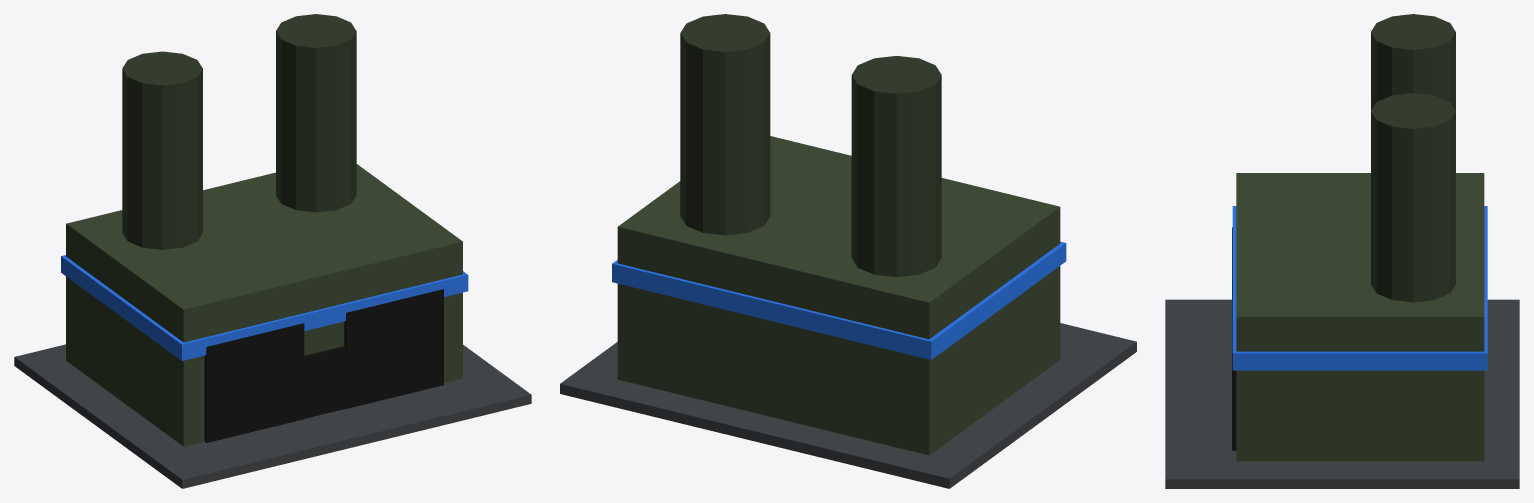
Rendered from ru_logistics_hub.glb.
3 renders of one model, left to right at view 1: azimuth 30°, elevation 25°; view 2: azimuth 150°, elevation 25°; view 3: azimuth 270°, elevation 25°, orthographic. The views are drawn at different scales.
Parts seen in each view (by area): view 1: main, base, stack_0, stack_1, garage_0, garage_1, team_band, door; view 2: main, base, stack_1, stack_0, team_band; view 3: main, base, stack_1, stack_0, team_band, garage_1.
Part boxes in pixels (<box>): main: <box>66,164,462,446</box>; base: <box>14,344,531,488</box>; stack_0: <box>122,51,202,249</box>; stack_1: <box>276,14,356,212</box>; garage_0: <box>204,323,304,442</box>; garage_1: <box>344,289,443,408</box>; team_band: <box>61,255,468,360</box>; door: <box>304,346,345,418</box>; main: <box>617,136,1060,455</box>; base: <box>560,323,1136,488</box>; stack_1: <box>680,14,770,235</box>; stack_0: <box>851,56,941,277</box>; team_band: <box>612,241,1066,359</box>; main: <box>1236,173,1484,461</box>; base: <box>1165,299,1519,488</box>; stack_1: <box>1371,93,1455,302</box>; stack_0: <box>1371,14,1455,110</box>; team_band: <box>1232,206,1487,370</box>; garage_1: <box>1232,299,1236,450</box>.
Size of the model in its own units: 12 by 10.2 by 10.
